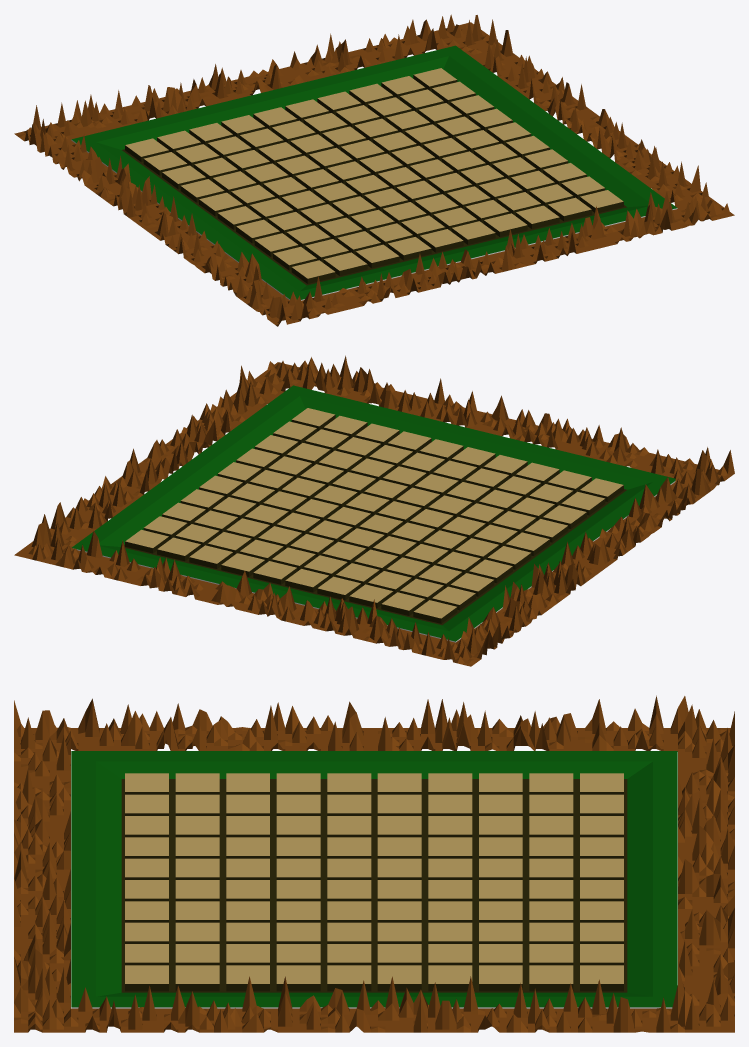
Rendered from Board.fbx.
The picture shows the model from 3 angles, top to bottom: view 1: azimuth 30°, elevation 25°; view 2: azimuth 150°, elevation 25°; view 3: azimuth 270°, elevation 25°; orthographic projection. The views are drawn at different scales.
Parts seen in each view (by area): view 1: Cube, Plane; view 2: Cube, Plane; view 3: Cube, Plane.
Boxes of the visible parts, x1,y1,x2,y2 form: Cube: [71, 45, 677, 300]; Plane: [14, 14, 734, 326]; Cube: [72, 385, 675, 642]; Plane: [14, 355, 734, 666]; Cube: [71, 751, 677, 1008]; Plane: [14, 695, 734, 1032].
Bounding box in the file's own units: 2000 × 136 × 2000.
